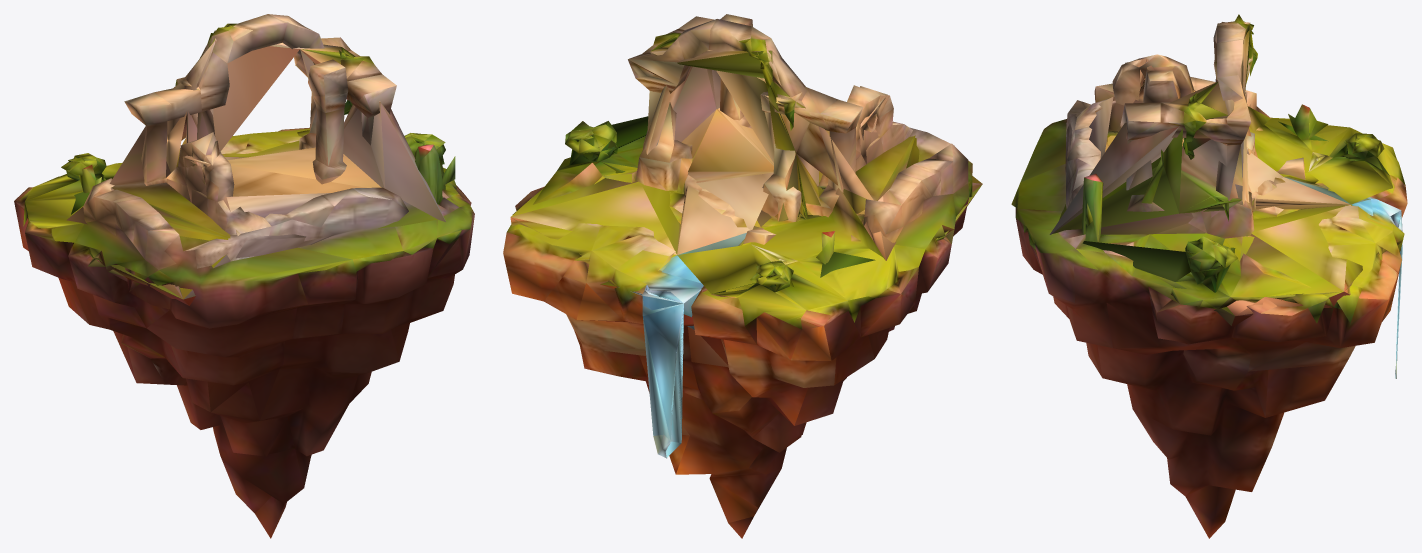
The model's file is ilha.glb.
3 views of the same model, side by side, from view 1: azimuth 30°, elevation 25°; view 2: azimuth 150°, elevation 25°; view 3: azimuth 270°, elevation 25° (orthographic). The views are drawn at different scales.
Visible parts, largest first — view 1: ilha, ilha-lod; view 2: ilha, ilha-lod; view 3: ilha, ilha-lod.
Part boxes in pixels (left/top/right/bottom): ilha: left=14, top=14, right=474, bottom=538; ilha-lod: left=66, top=30, right=446, bottom=305; ilha: left=503, top=14, right=972, bottom=538; ilha-lod: left=510, top=36, right=982, bottom=457; ilha: left=1011, top=14, right=1407, bottom=538; ilha-lod: left=1049, top=22, right=1402, bottom=358.
Bounding box in the file's own units: 0.7874 × 1 × 0.7087.
Materials: 1 (1 with a texture image).
